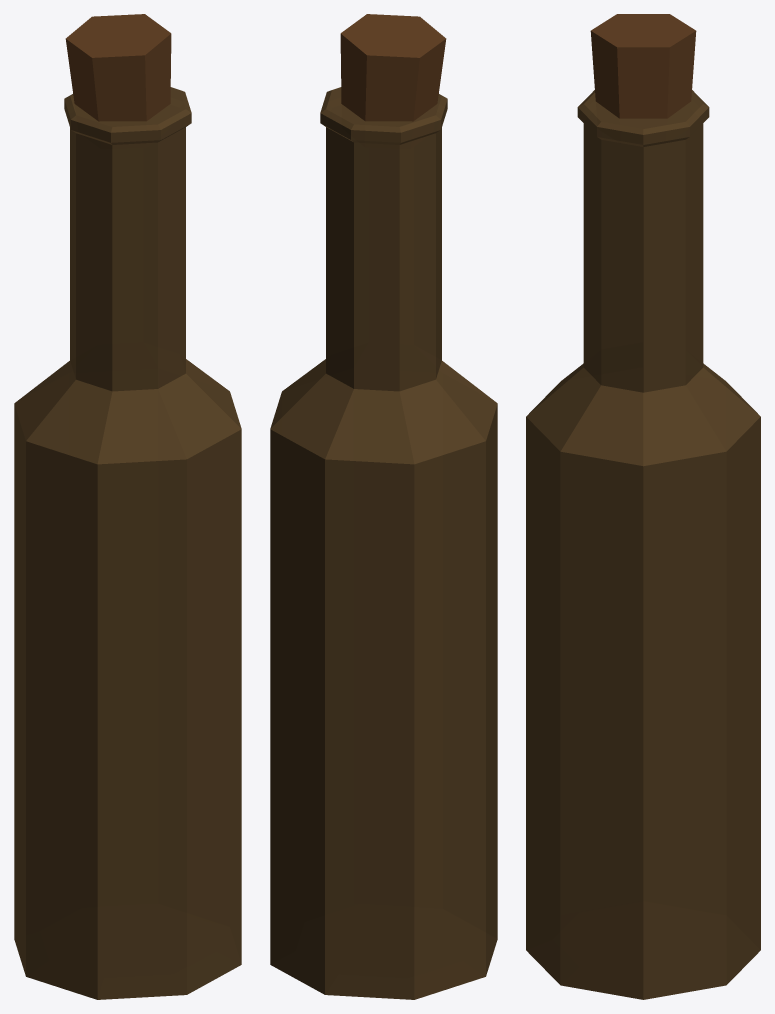
The model's file is bottle2.fbx.
The picture shows the model from 3 angles, left to right: view 1: azimuth 30°, elevation 25°; view 2: azimuth 150°, elevation 25°; view 3: azimuth 270°, elevation 25°; orthographic projection.
Visible parts, largest first — view 1: Cylinder.001; view 2: Cylinder.001; view 3: Cylinder.001.
Part boxes in pixels (left/top/right/bottom): Cylinder.001: left=14, top=14, right=241, bottom=999; Cylinder.001: left=270, top=14, right=497, bottom=999; Cylinder.001: left=526, top=14, right=760, bottom=999.
Bounding box in the file's own units: 236 × 1018 × 236.
